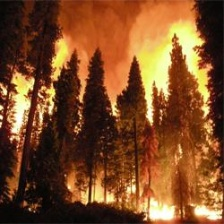fire: (4, 46, 67, 147), (85, 180, 224, 221), (153, 36, 211, 114)
